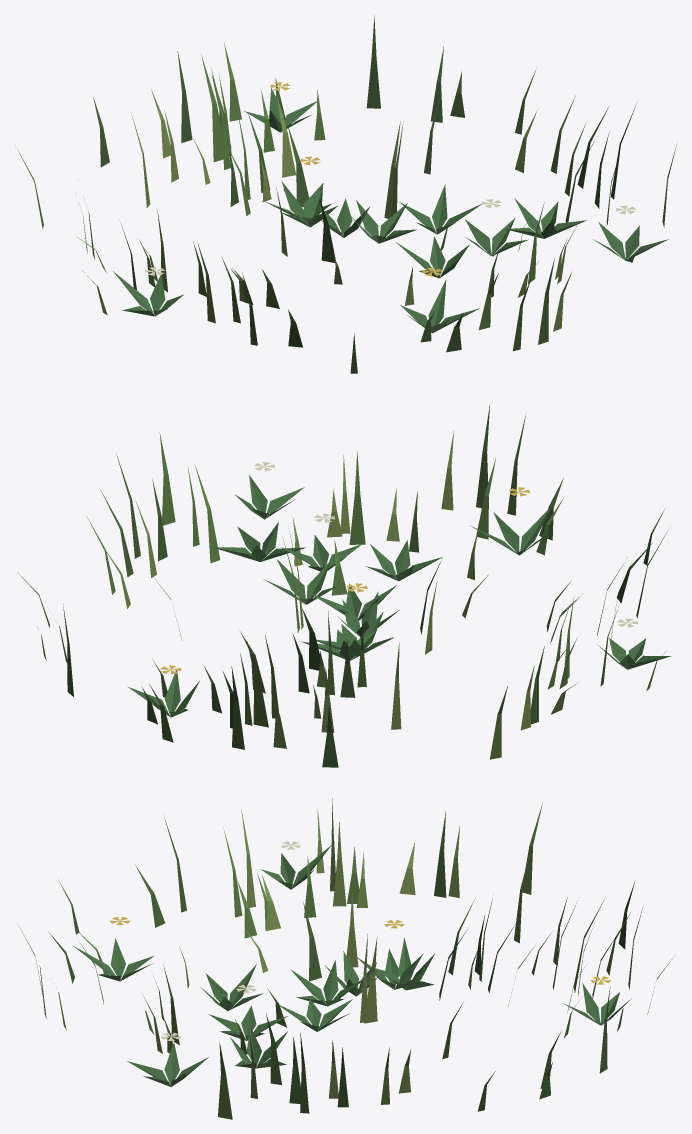
File: groundcover.glb
3 views of the same model, one above another, from view 1: azimuth 30°, elevation 25°; view 2: azimuth 150°, elevation 25°; view 3: azimuth 270°, elevation 25° (orthographic). The views are drawn at different scales.
Parts seen in each view (by area): view 1: Meadow groundcover; view 2: Meadow groundcover; view 3: Meadow groundcover.
Part boxes in pixels (x1=…): Meadow groundcover: x1=15, y1=15, x2=676, y2=373; Meadow groundcover: x1=17, y1=405, x2=671, y2=767; Meadow groundcover: x1=19, y1=798, x2=672, y2=1119.
Size of the model in its own units: 4.82 by 0.8199 by 5.1.
